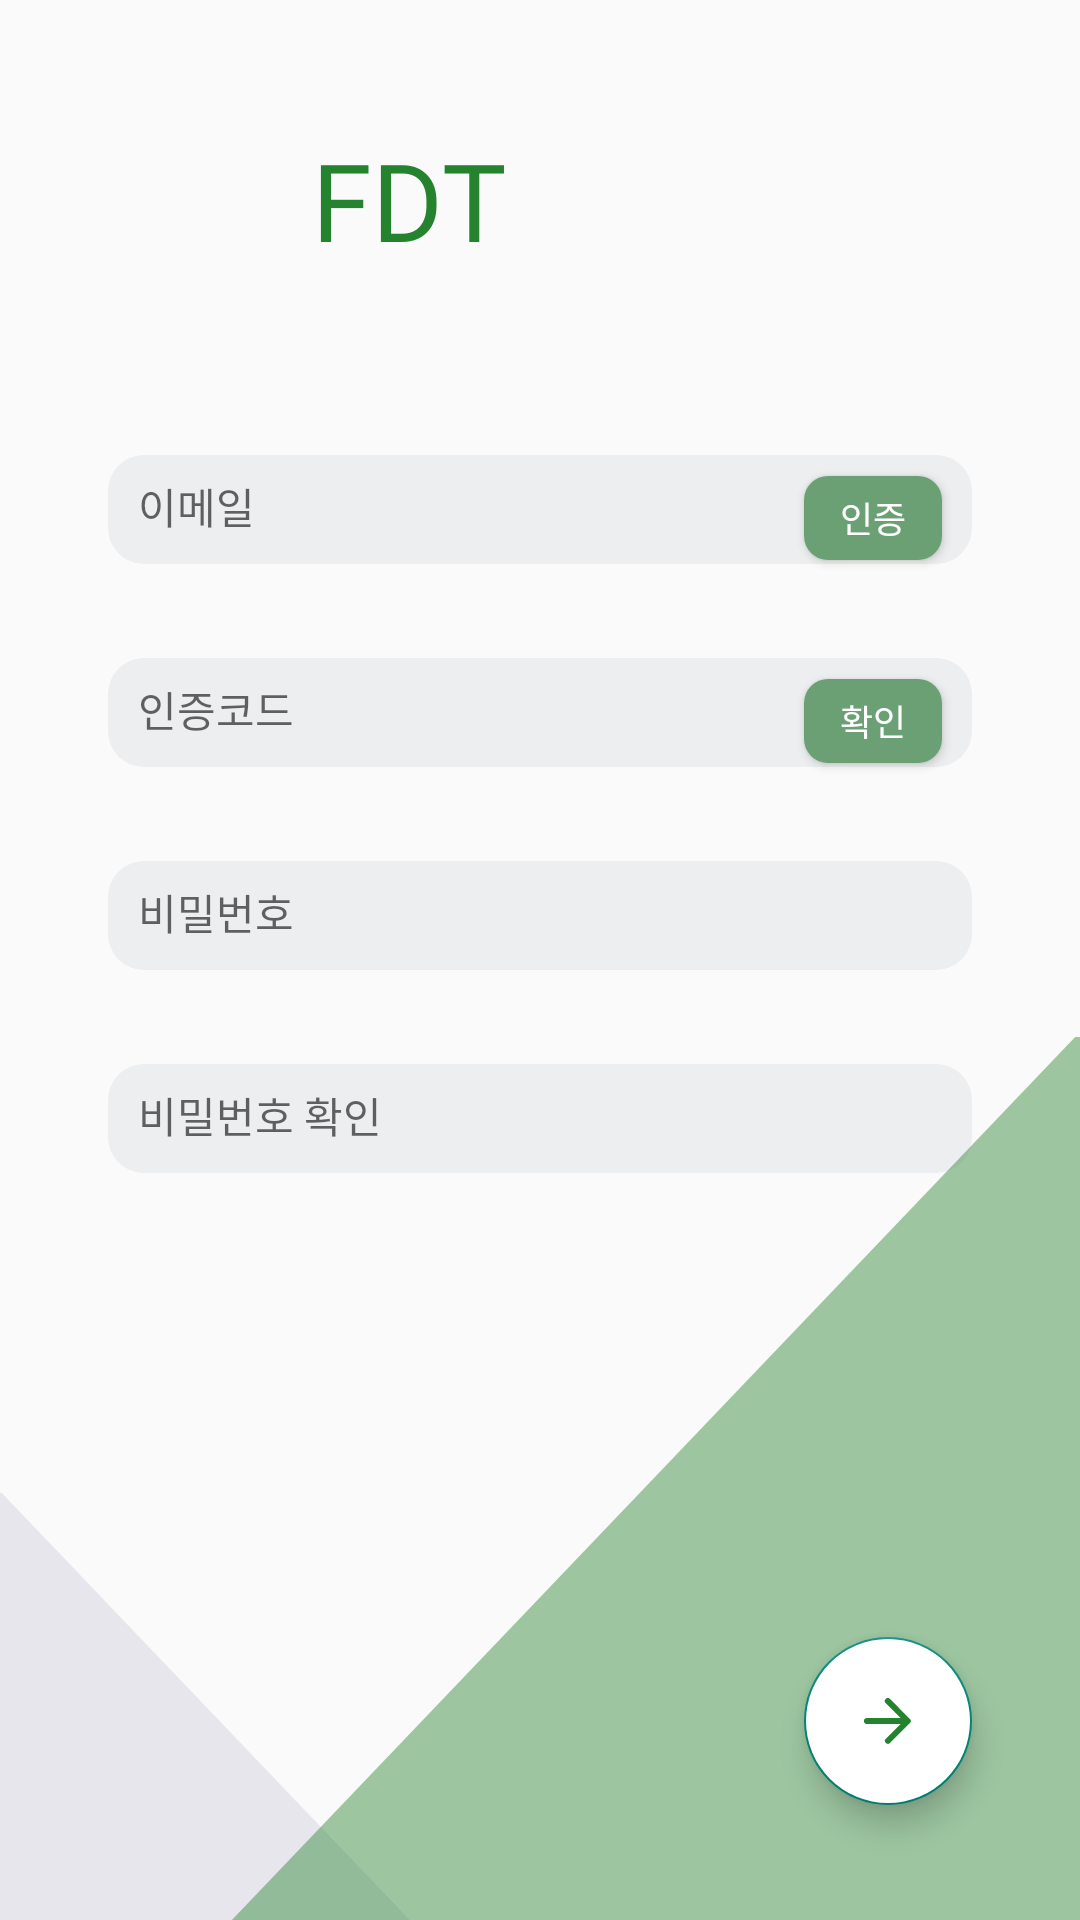

Screen size 1080 × 1920. Icon name, then its center in pixels as (x,y):
next: (888,1721)
